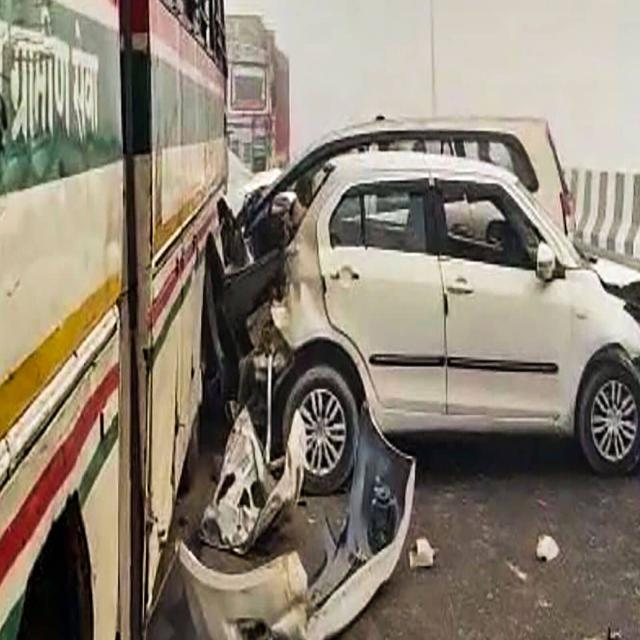accident: (221, 151, 640, 493)
